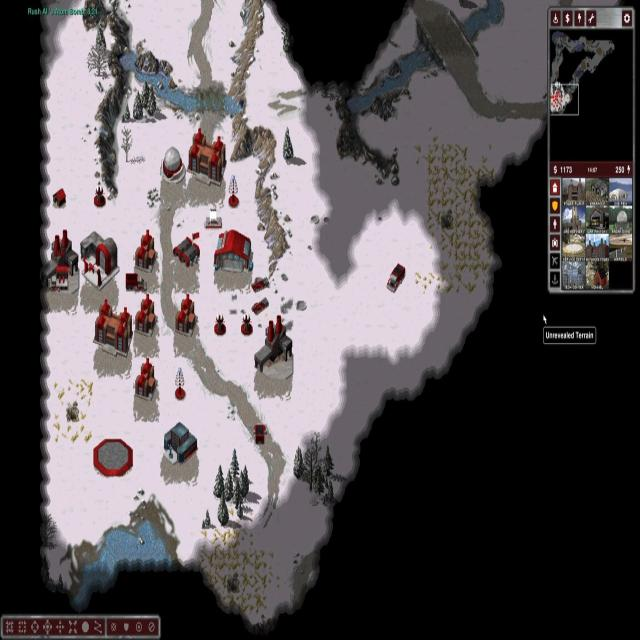bingying: (173, 237, 199, 267)
dianchang: (134, 229, 157, 271), (176, 292, 197, 337), (135, 358, 157, 400), (135, 294, 156, 336)
jidi: (80, 231, 118, 291)
jungongchang: (214, 229, 253, 275)
kuangchang: (41, 229, 79, 293)
leida: (160, 148, 184, 184)
